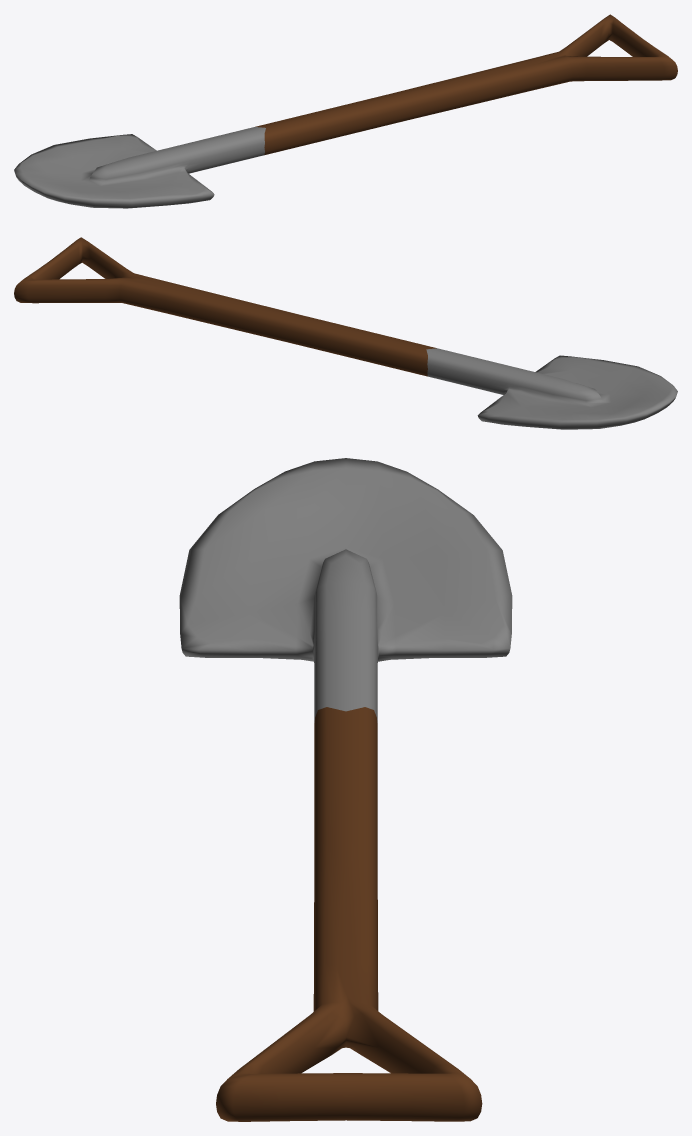
File: TieChan.FBX
3 renders of one model, top to bottom at view 1: azimuth 30°, elevation 25°; view 2: azimuth 150°, elevation 25°; view 3: azimuth 270°, elevation 25°, orthographic. The views are drawn at different scales.
Parts seen in each view (by area): view 1: Box001; view 2: Box001; view 3: Box001.
Part boxes in pixels (box(x1,y1,x2,y2)): Box001: box(14, 14, 677, 208); Box001: box(14, 237, 677, 429); Box001: box(179, 458, 512, 1121).
Bounding box in the file's own units: 34.87 × 1.64 × 8.05.
